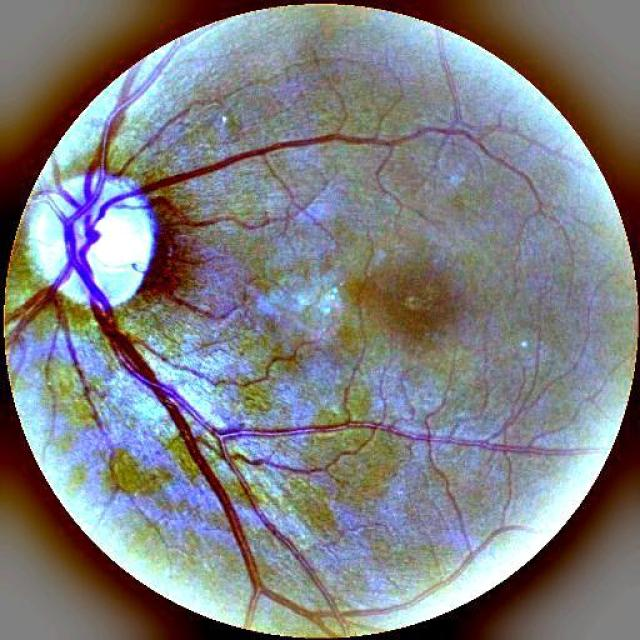Macula: (378, 281, 442, 336)
Nerves: (11, 40, 490, 618)
Optic Disk: (29, 181, 152, 310)
